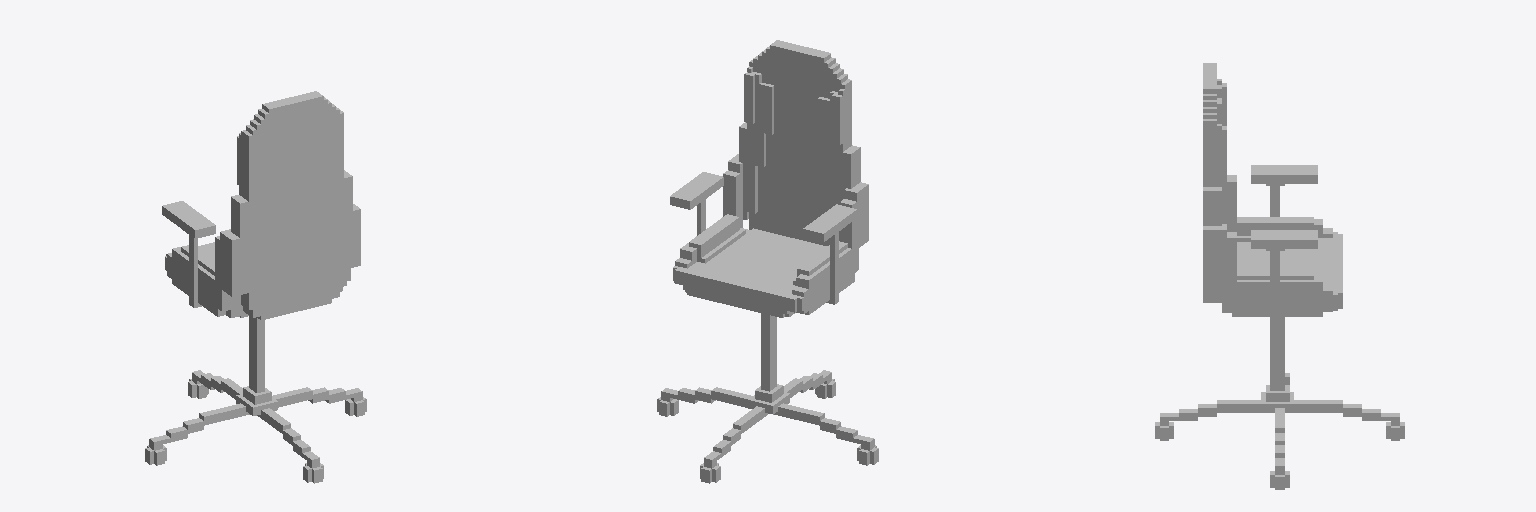
Rendered from GamingChair.obj.
3 views of the same model, side by side, from view 1: azimuth 30°, elevation 25°; view 2: azimuth 150°, elevation 25°; view 3: azimuth 270°, elevation 25° (orthographic).
Parts seen in each view (by area): view 1: Untitled, Untitled.001; view 2: Untitled, Untitled.001; view 3: Untitled.
Boxes of the visible parts, <box> form: Untitled: <box>145,91,366,483</box>; Untitled.001: <box>205,95,327,319</box>; Untitled: <box>657,40,878,483</box>; Untitled.001: <box>712,44,819,311</box>; Untitled: <box>1155,63,1404,489</box>.
Size of the model in its own units: 5.2 by 8.3 by 5.2.